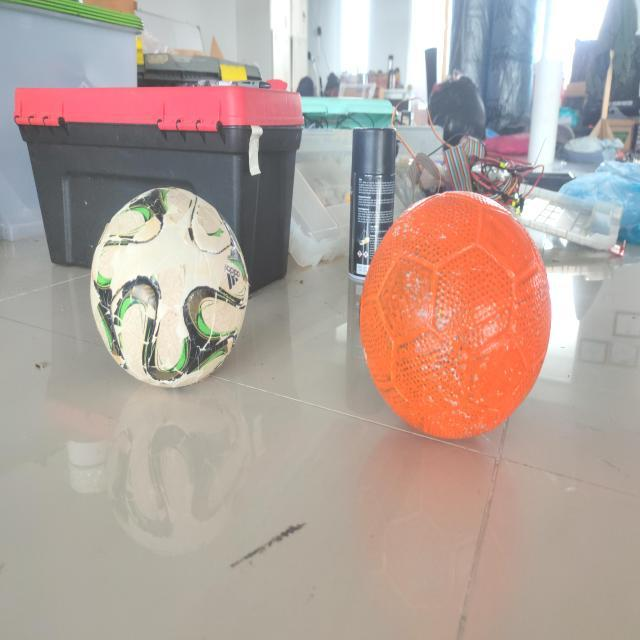bola: (354, 183, 556, 449)
